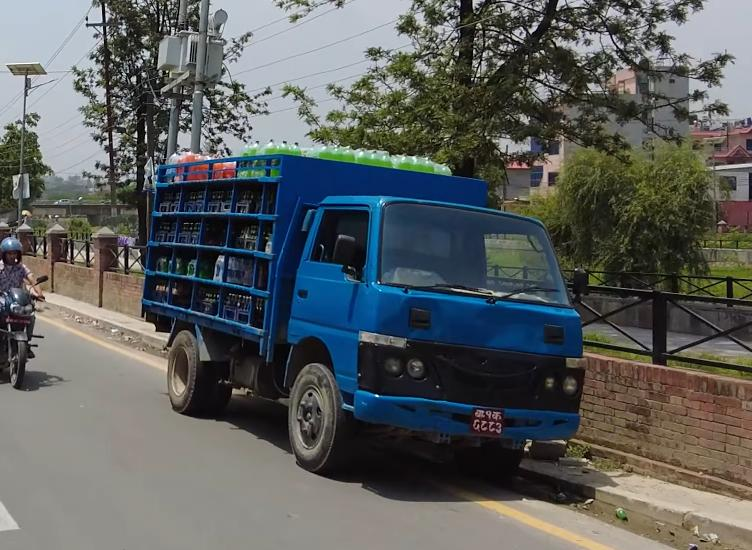bike: (0, 229, 46, 392)
mini_truck: (137, 139, 591, 505)
